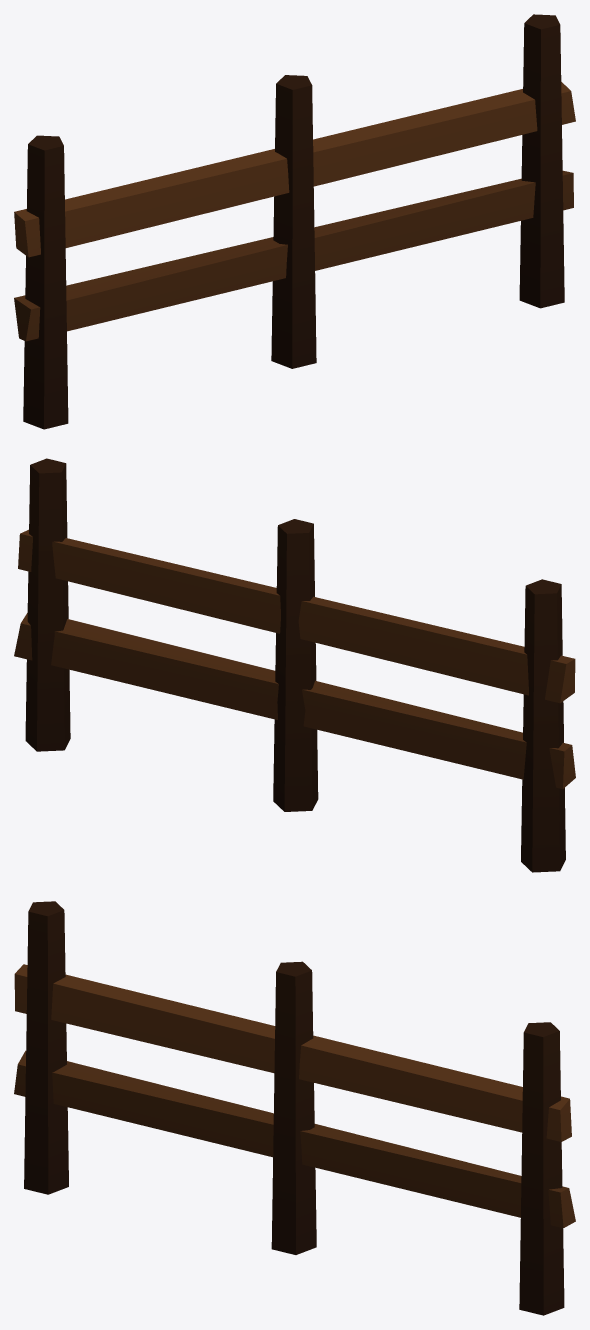
File: fence.glb
The picture shows the model from 3 angles, top to bottom: view 1: azimuth 30°, elevation 25°; view 2: azimuth 150°, elevation 25°; view 3: azimuth 330°, elevation 25°; orthographic projection.
Visible parts, largest first — view 1: fence; view 2: fence; view 3: fence.
Boxes of the visible parts, x1=… form: fence: x1=14, y1=14, x2=575, y2=429; fence: x1=14, y1=458, x2=575, y2=872; fence: x1=14, y1=901, x2=575, y2=1315.
Bounding box in the file's own units: 0.6663 × 0.32 × 0.0452.
